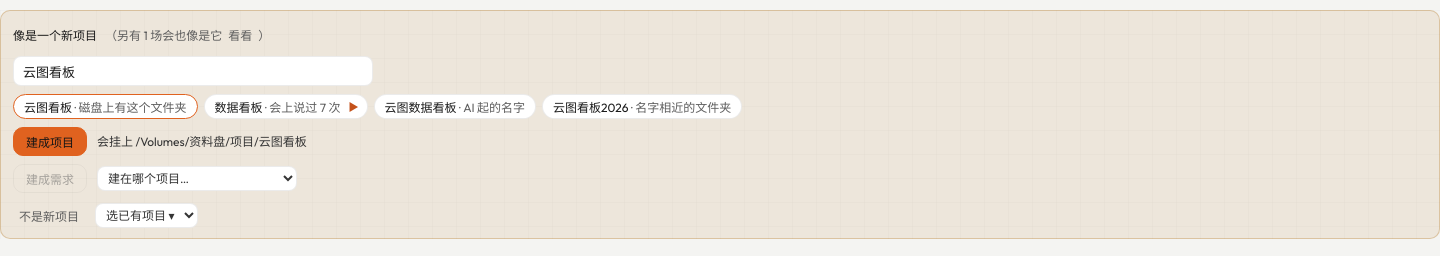
Test: NewNamePrompt 像是一个新项目 › 没选项目时［建成需求］点不了
This screenshot has width=1440, height=256.
Check: the field showing "云图看板" is shown, box [13,56,373,86]
Check: the button "建成需求" is disabled, box [13,164,87,193]
Select "云图AI" in the dropdown named "建在哪个项目" at (197, 178), box [97,166,297,191]
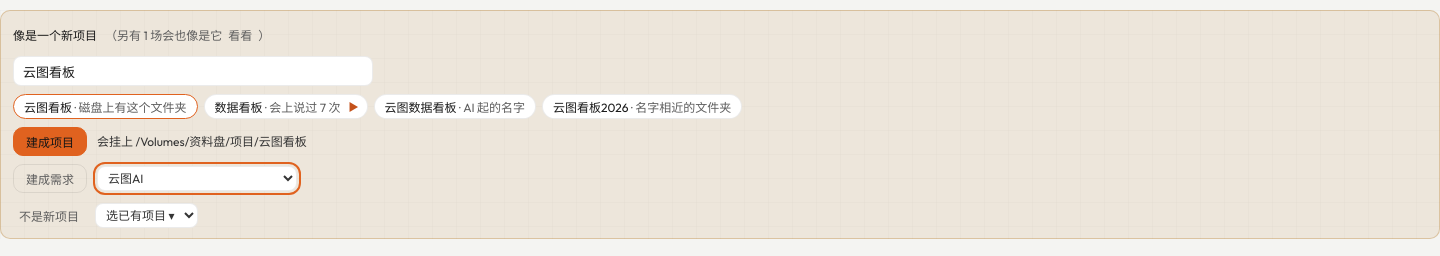
Check: the button "建成需求" is enabled, box [13,164,87,193]
